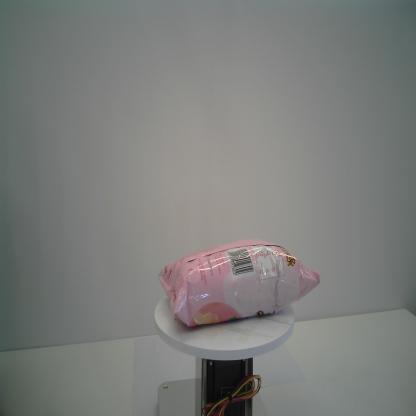Puffed Food: (157, 236, 322, 328)
